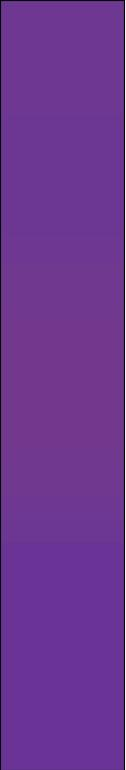safe: (11, 12, 118, 755)
